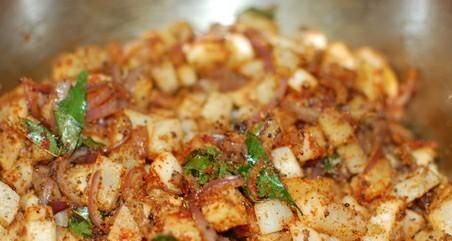AlooMasala: (0, 10, 452, 241)
